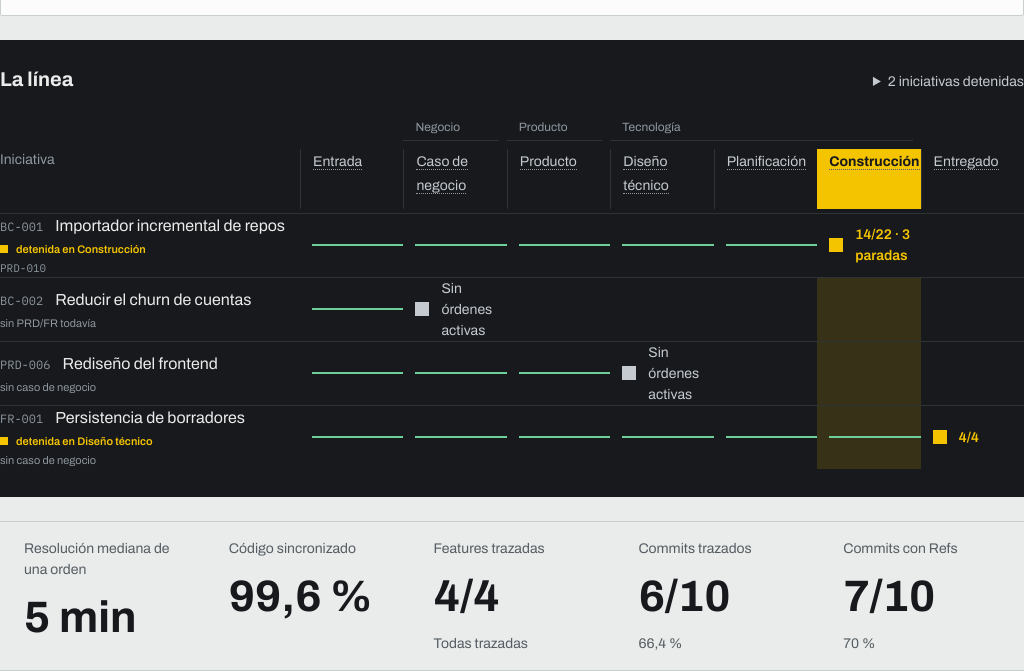
Test case: Planta › commit KPIs drill-down (WO-669, SDD-080 D6/D7) › renders a 5-column table with scope="col" and singular/plural file counts
The width and height of the screenshot is (1024, 671).
(page scrolled)
Click the button named "Commits trazados: 6/10": coordinates (684, 596) [638, 563, 730, 629]
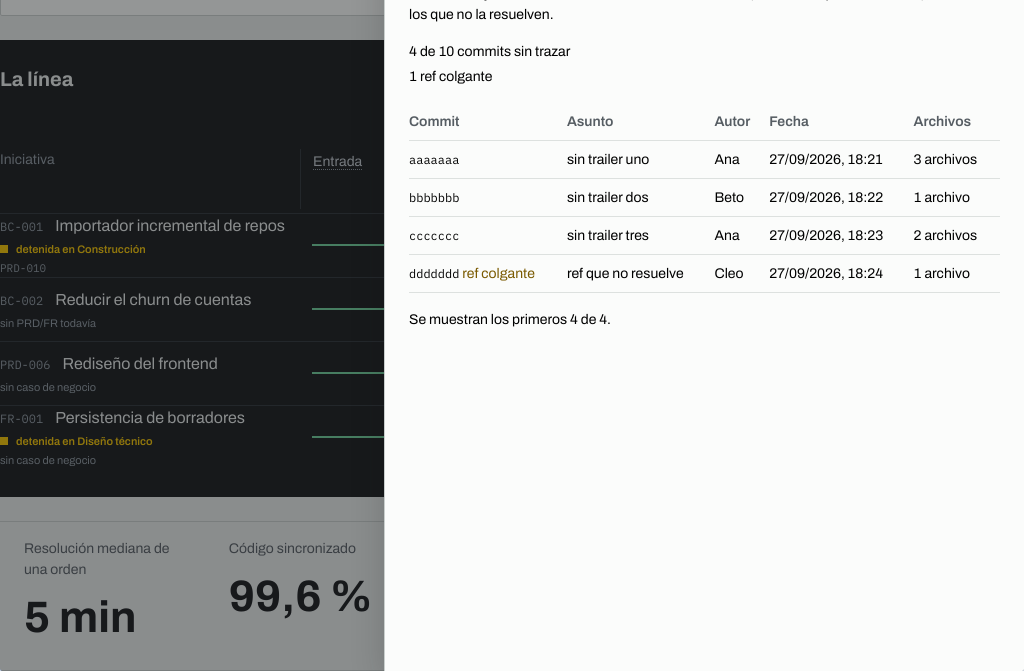
Check: the column headings read "Commit", "Asunto", "Autor", "Fecha", "Archivos", in this order, box [409, 103, 567, 140]; [567, 103, 714, 140]; [714, 103, 769, 140]; [769, 103, 914, 140]; [914, 103, 1000, 140]
Check: the text "3 archivos" is shown, box [914, 140, 1000, 178]
Check: the text "1 archivo" in the row of "bbbbbbb" is shown, box [914, 190, 970, 205]
